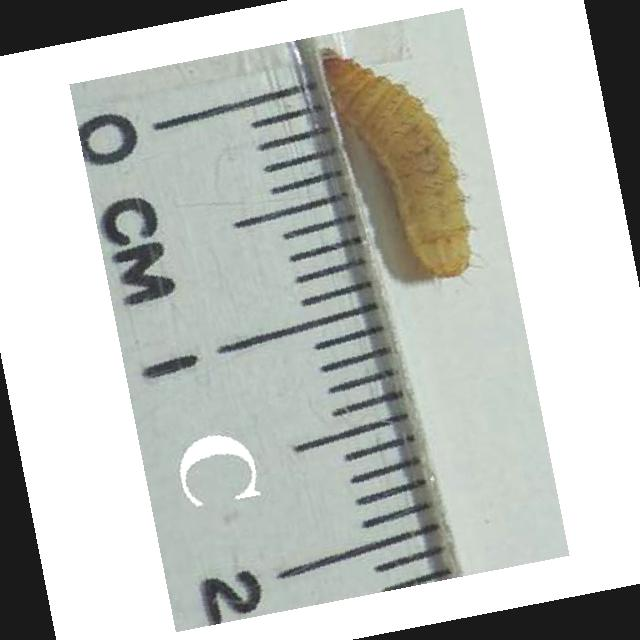Maggot: (316, 45, 478, 280)
